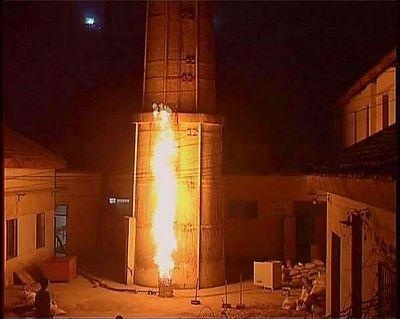fire: (150, 113, 182, 278)
